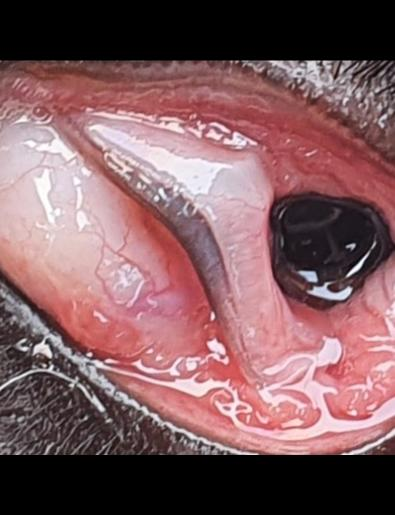eye_membrane: (0, 64, 395, 451)
